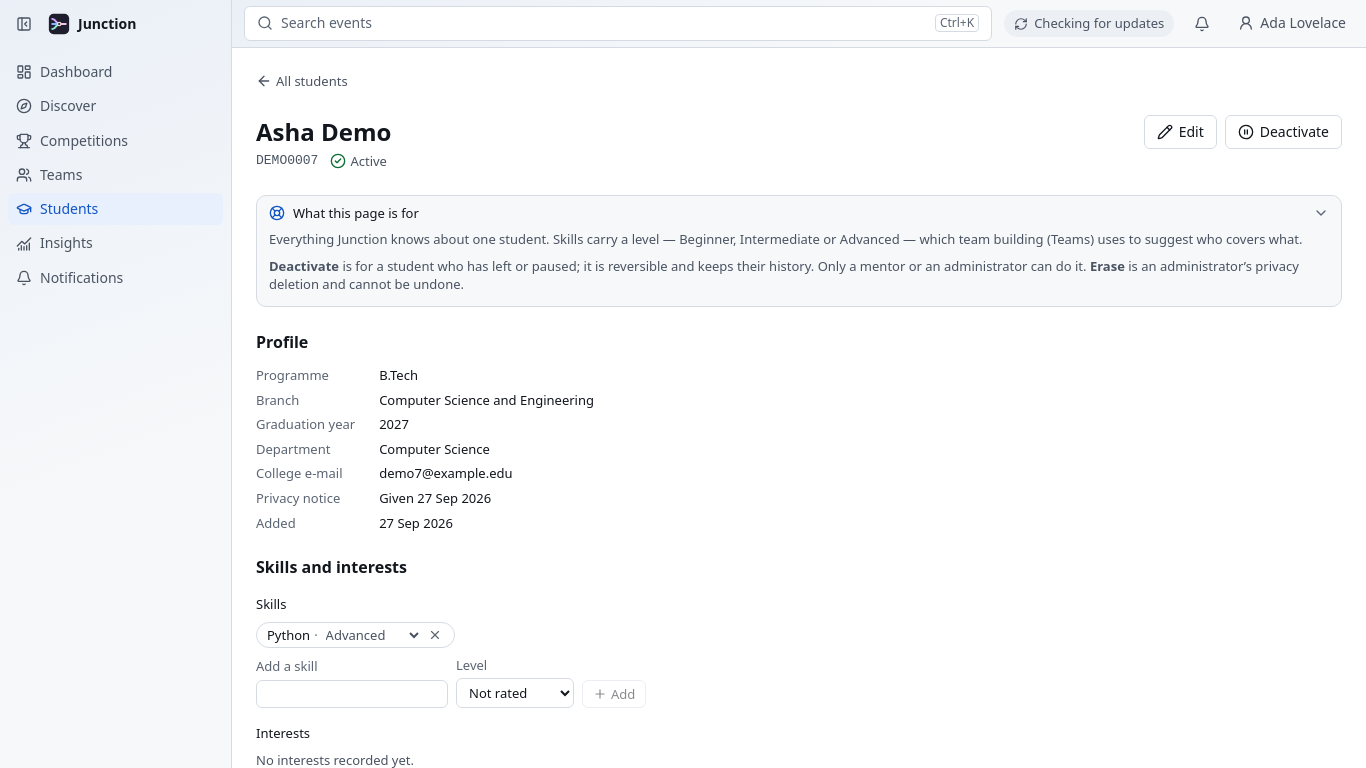
skills and interests › shows a level in words, and adds a skill at once with Undo
Expected: the navigation bar named "Main" is shown, [0,0,231,302]
Expected: the heading "Asha Demo" is shown, [256,115,391,148]
In the field labelled "Add a skill": coordinates (352, 694) [256,680,448,708], type "SQL"
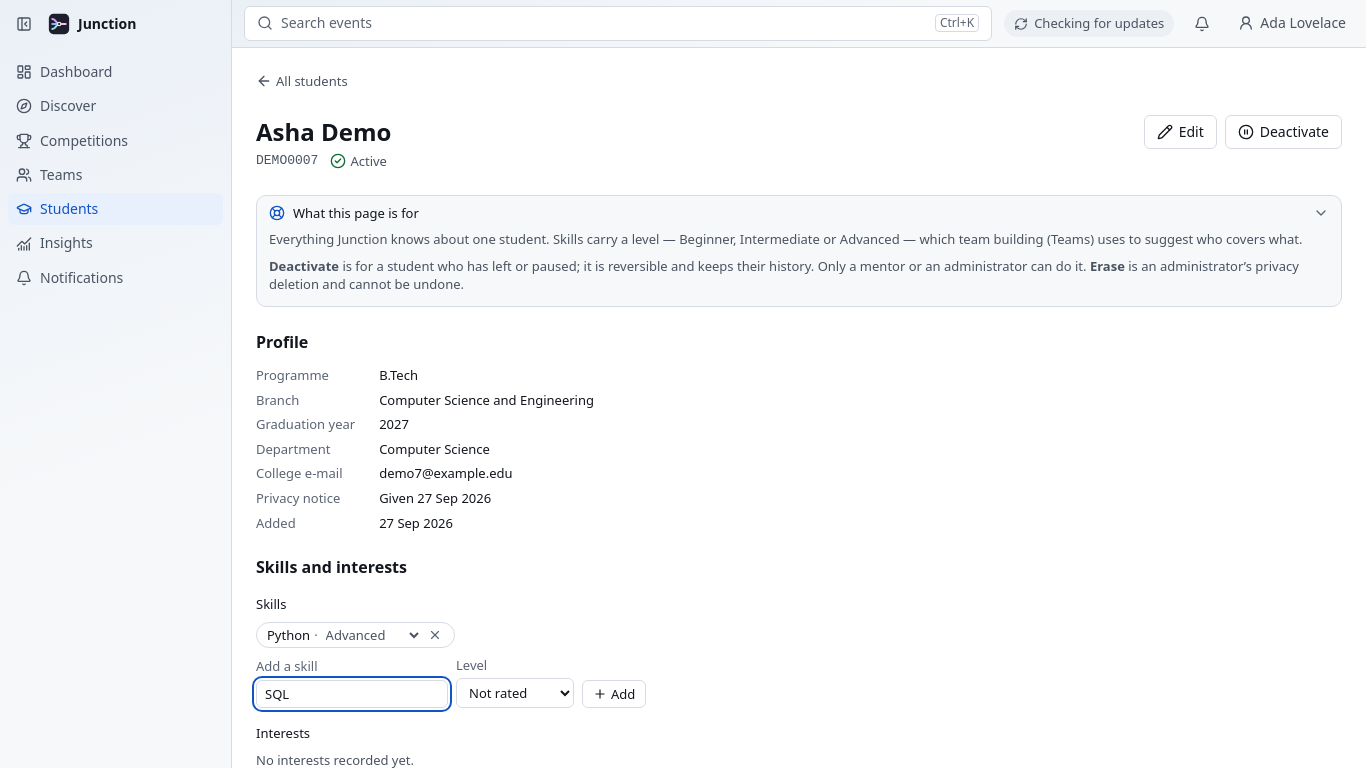
Select "Beginner" in the dropdown labelled "Level": coordinates (515, 693) [456,678,574,708]
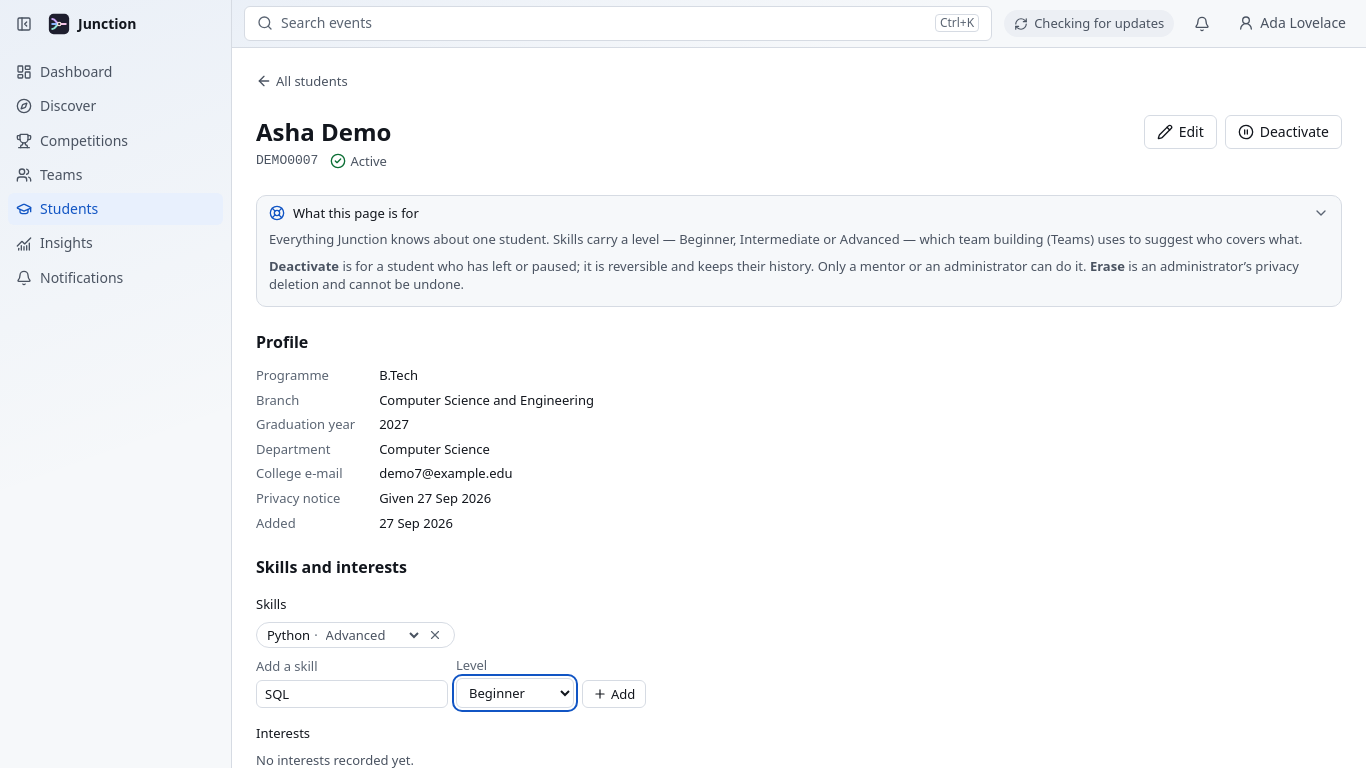
Click the button "Add": coordinates (614, 694) [582,680,646,708]
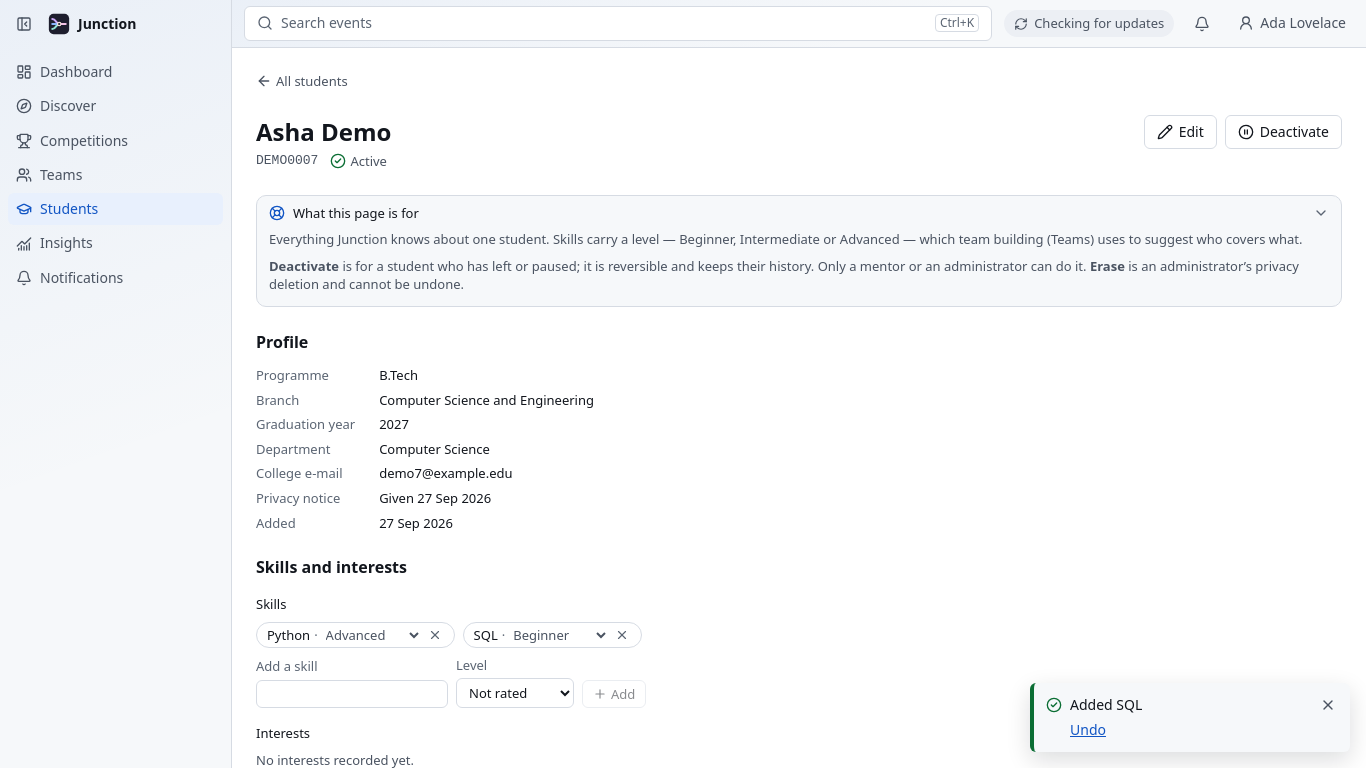
Result: the text "SQL" is shown at [474,626,498,644]
Result: the text "Added SQL" is shown at [1069,694,1142,714]
Click the button "Undo": coordinates (1088, 730) [1070,720,1106,740]
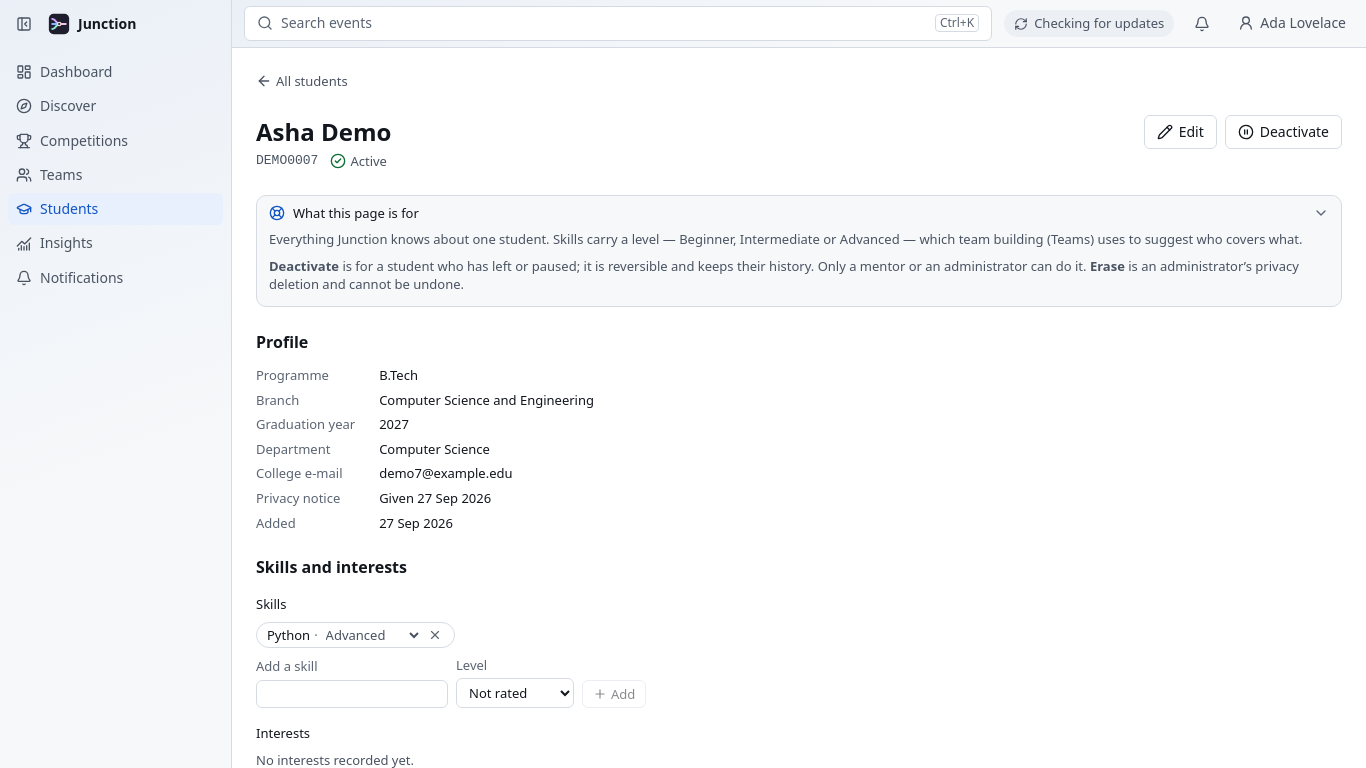
Result: the text "SQL" is gone
